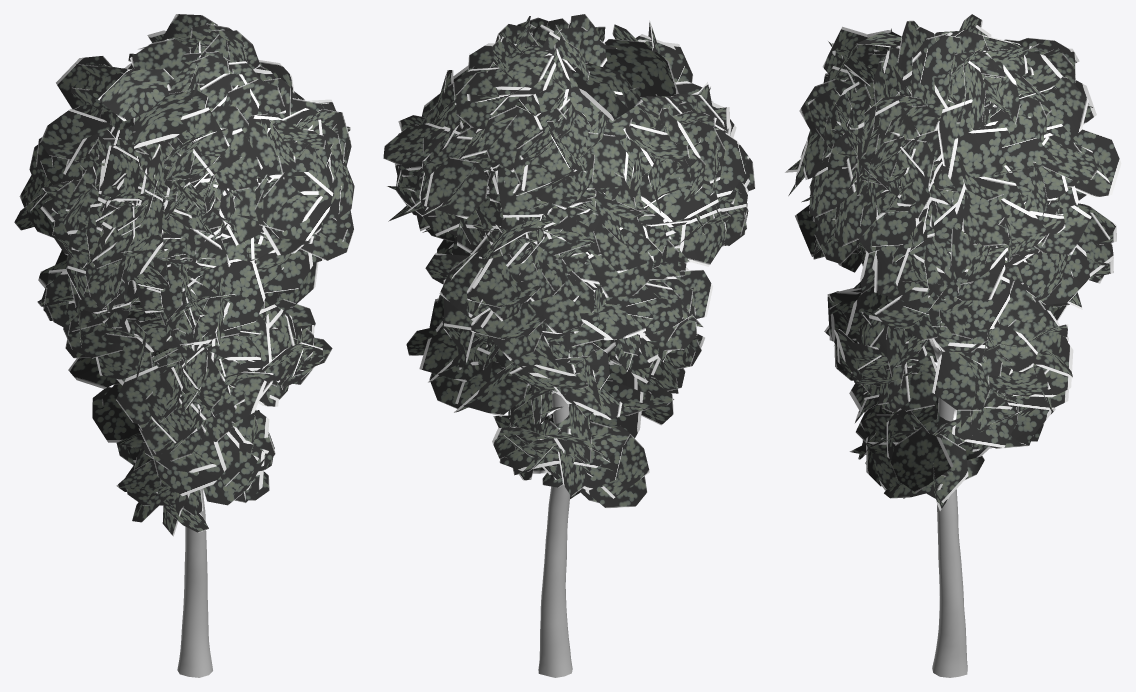
The model's file is SM_Tree_A_01.fbx.
3 renders of one model, left to right at view 1: azimuth 30°, elevation 25°; view 2: azimuth 150°, elevation 25°; view 3: azimuth 270°, elevation 25°, orthographic. The views are drawn at different scales.
Visible parts, largest first — view 1: SM_Tree_A_01_LOD0; view 2: SM_Tree_A_01_LOD0; view 3: SM_Tree_A_01_LOD0.
Part boxes in pixels (x1,y1,x2,y2): SM_Tree_A_01_LOD0: (14,14,354,677); SM_Tree_A_01_LOD0: (383,14,755,677); SM_Tree_A_01_LOD0: (785,14,1121,677).
Size of what is drawn, in the model's own units: 5.51 by 11.56 by 5.44.
